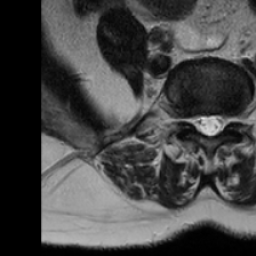CCS_normal: (205, 103, 215, 144)
LFS_stenosis: (225, 106, 237, 134)
LLS_normal: (215, 103, 225, 138)
RFS_severe_stenosis: (180, 107, 194, 130)
RLS_normal: (194, 106, 205, 138)
